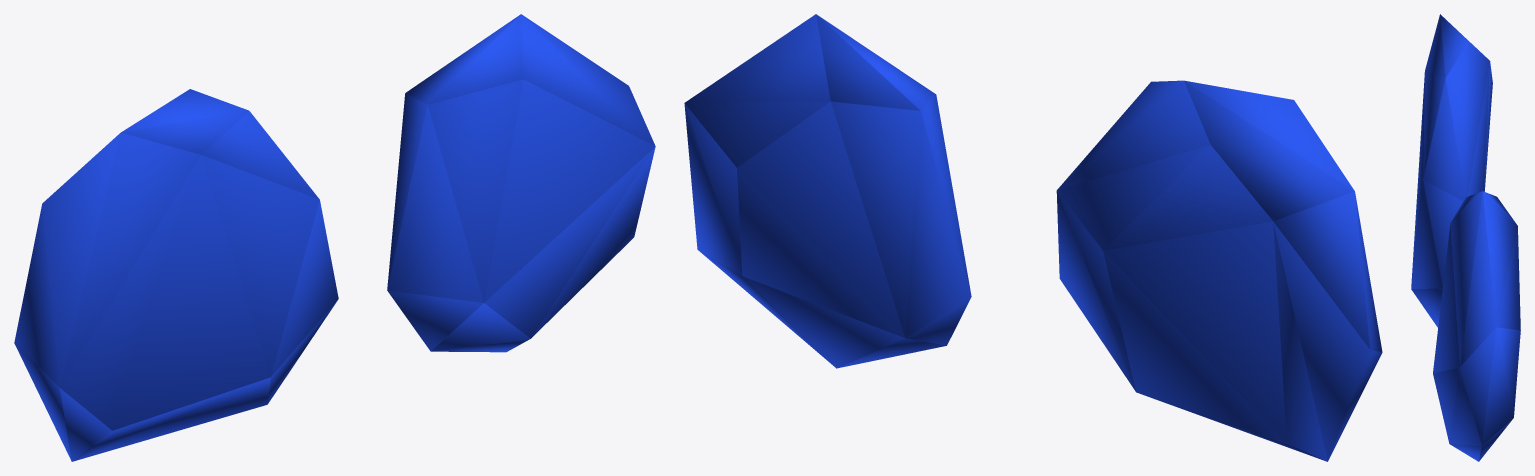
Rendered from mfercoin eyes.glb.
3 renders of one model, left to right at view 1: azimuth 30°, elevation 25°; view 2: azimuth 150°, elevation 25°; view 3: azimuth 270°, elevation 25°, orthographic. The views are drawn at different scales.
Parts seen in each view (by area): view 1: eyes_mfercoin.001; view 2: eyes_mfercoin.001; view 3: eyes_mfercoin.001.
Boxes of the visible parts, left/top/right/bottom form: eyes_mfercoin.001: left=14, top=14, right=655, bottom=461; eyes_mfercoin.001: left=684, top=14, right=1382, bottom=461; eyes_mfercoin.001: left=1411, top=14, right=1520, bottom=461.
Bounding box in the file's own units: 0.0793 × 0.0413 × 0.0142.
